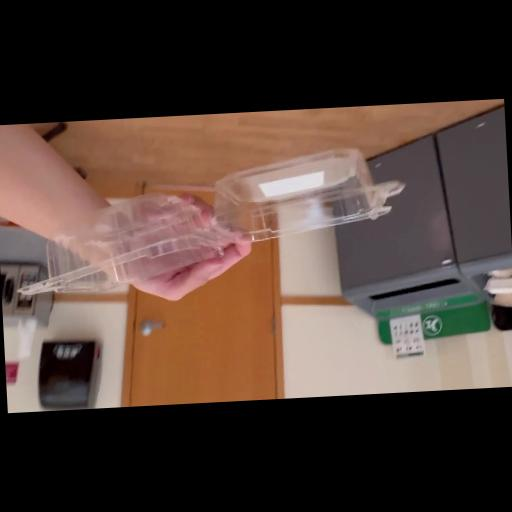small_plastic_container: (5, 136, 413, 304)
